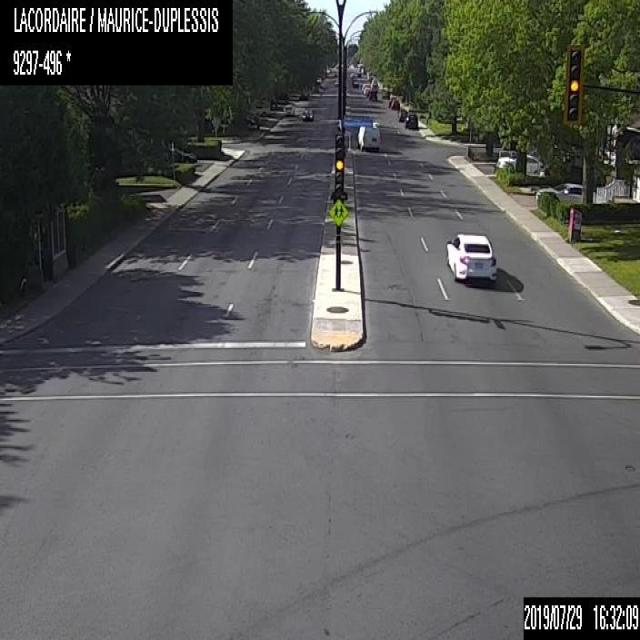vehicle: (446, 232, 496, 281), (536, 180, 605, 207), (496, 149, 547, 174), (356, 120, 378, 149), (168, 145, 196, 163), (252, 104, 270, 116), (405, 113, 418, 128), (300, 107, 314, 120), (281, 104, 294, 116), (398, 107, 408, 121), (390, 98, 400, 109), (368, 88, 377, 100), (388, 95, 396, 108), (361, 83, 369, 93), (370, 78, 377, 89)
